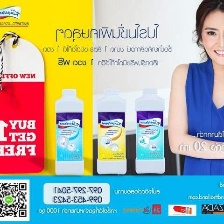book: (0, 35, 48, 175)
cleaning_solution: (133, 86, 167, 177), (94, 87, 128, 176), (53, 87, 86, 178)
